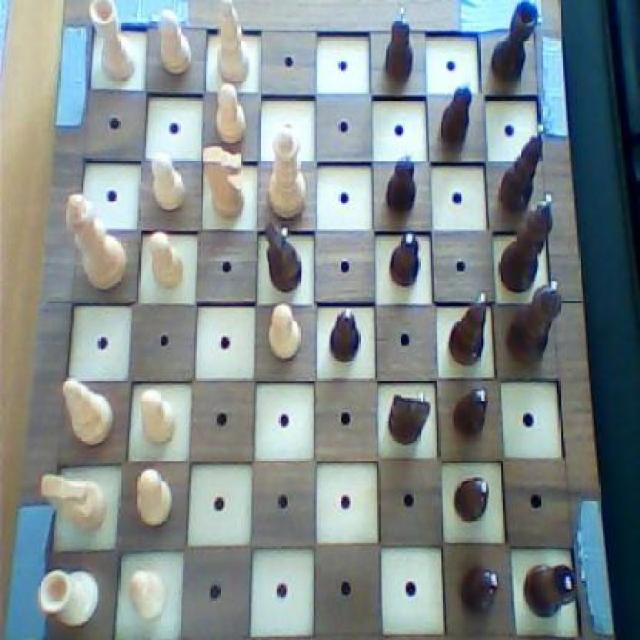bishop: (494, 120, 548, 220), (445, 291, 489, 366)
black-bishop: (497, 192, 554, 297)
black-king: (260, 220, 305, 298), (384, 388, 432, 448), (385, 388, 430, 448)
black-knight: (436, 78, 476, 152), (381, 3, 417, 84), (455, 562, 498, 618), (451, 385, 491, 443), (386, 148, 419, 218), (388, 228, 423, 292), (328, 303, 362, 368), (449, 472, 490, 524)
black-pawn: (504, 278, 564, 369)
black-queen: (489, 0, 542, 86), (523, 558, 578, 618)
black-rook: (59, 374, 116, 450), (211, 0, 252, 86)
white-bishop: (65, 190, 129, 292)
white-king: (37, 468, 111, 536), (200, 143, 249, 222)
white-knight: (154, 6, 191, 79), (149, 148, 189, 215), (134, 464, 173, 532), (210, 80, 248, 147), (137, 386, 178, 447), (147, 228, 186, 292), (266, 298, 303, 362), (128, 562, 168, 620)
white-pawn: (266, 123, 310, 218)
white-queen: (88, 0, 140, 85), (37, 566, 101, 629)
